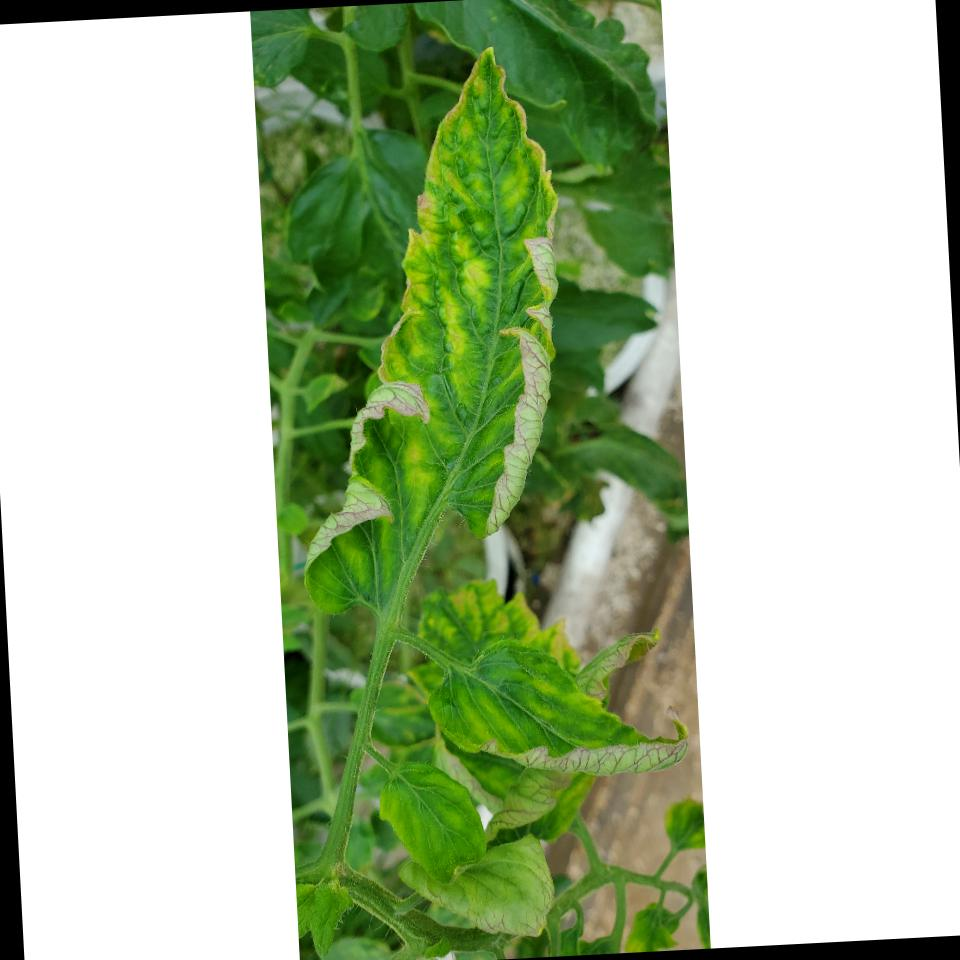tomato_yellow_leaf_curl_virus: (284, 49, 583, 625), (427, 640, 700, 792)
